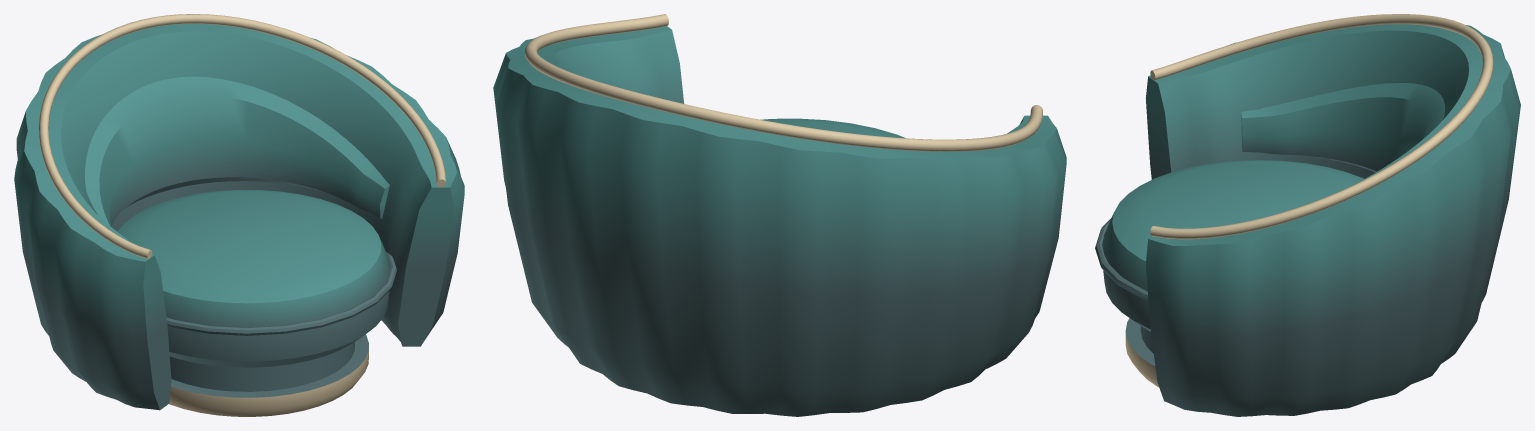
The model's file is KC32__AD_Int_Armchair_Club.glb.
The picture shows the model from 3 angles, left to right: view 1: azimuth 30°, elevation 25°; view 2: azimuth 150°, elevation 25°; view 3: azimuth 270°, elevation 25°; orthographic projection. The views are drawn at different scales.
Parts seen in each view (by area): view 1: KC32_CORPS__AD_Int_Armchair_Club, KC32_BRONZE__AD_Int_Armchair_Club; view 2: KC32_CORPS__AD_Int_Armchair_Club, KC32_BRONZE__AD_Int_Armchair_Club; view 3: KC32_CORPS__AD_Int_Armchair_Club, KC32_BRONZE__AD_Int_Armchair_Club.
Part boxes in pixels (box(x1,y1,x2,y2)): KC32_CORPS__AD_Int_Armchair_Club: box(14, 22, 464, 410); KC32_BRONZE__AD_Int_Armchair_Club: box(39, 14, 446, 416); KC32_CORPS__AD_Int_Armchair_Club: box(493, 26, 1066, 416); KC32_BRONZE__AD_Int_Armchair_Club: box(525, 14, 1042, 151); KC32_CORPS__AD_Int_Armchair_Club: box(1095, 24, 1520, 416); KC32_BRONZE__AD_Int_Armchair_Club: box(1125, 14, 1493, 387).
Bounding box in the file's own units: 1.3 × 0.8579 × 1.12.
